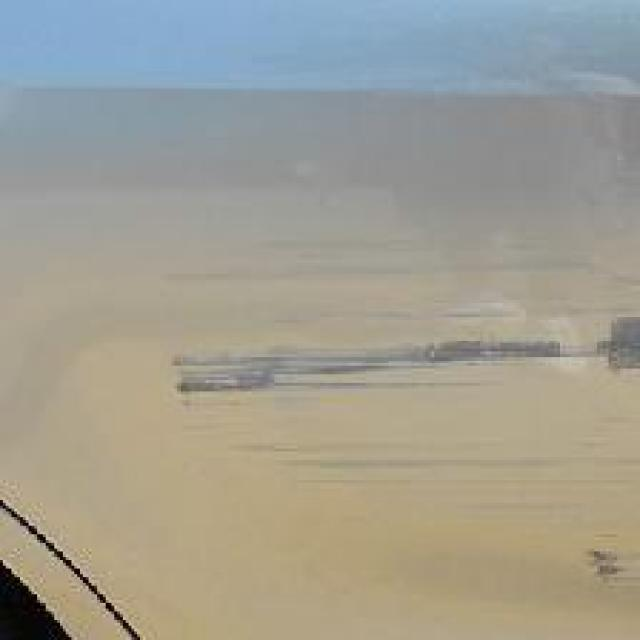damaged: (172, 226, 637, 594)
